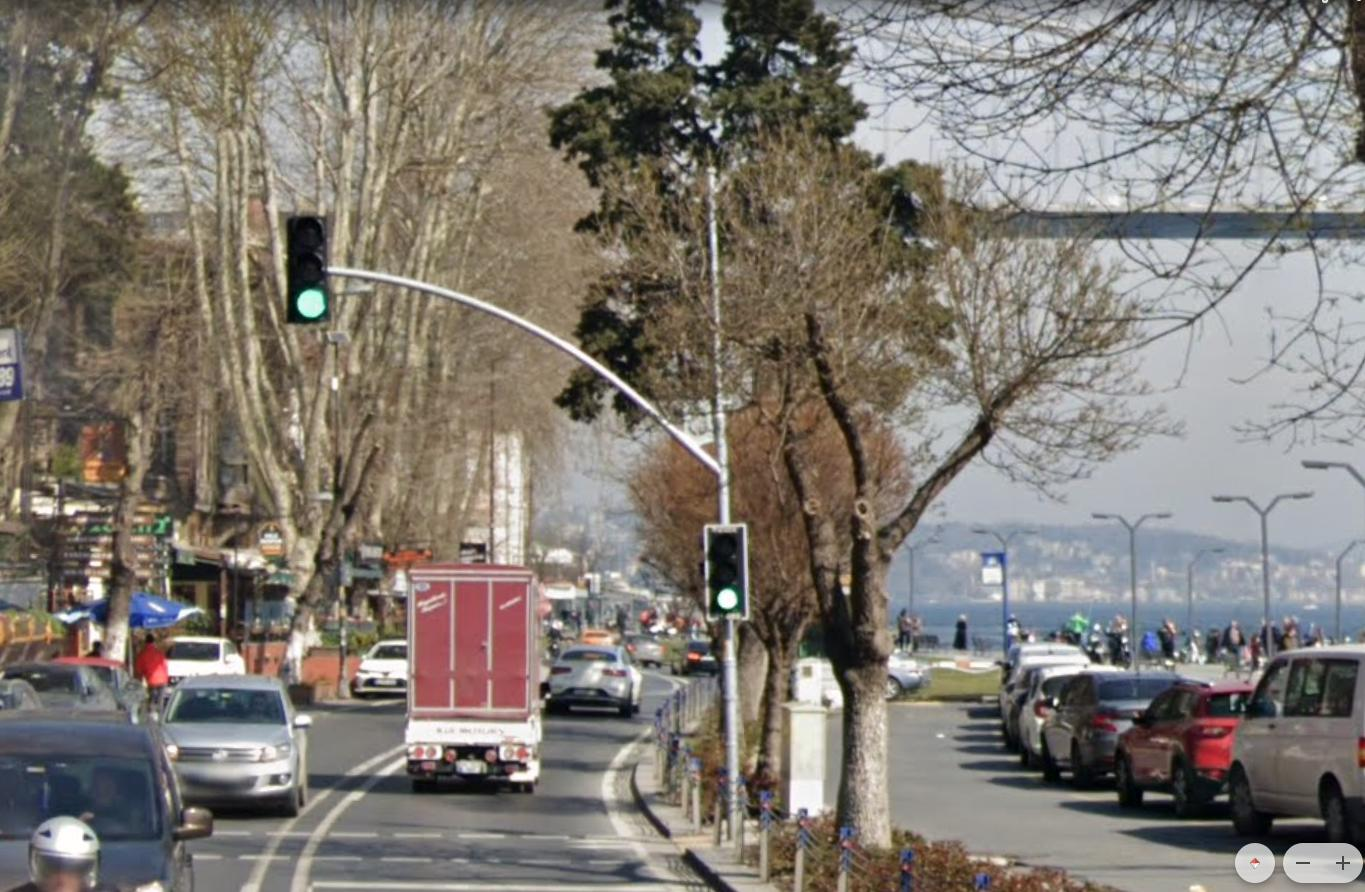greenlight: (278, 213, 332, 332), (704, 519, 749, 625)
